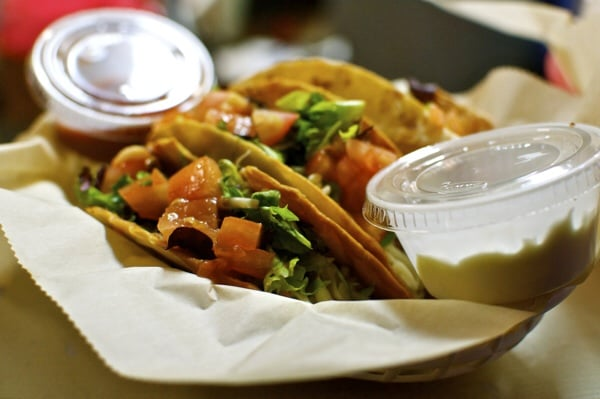sushi: (362, 121, 600, 308), (24, 8, 216, 160)
